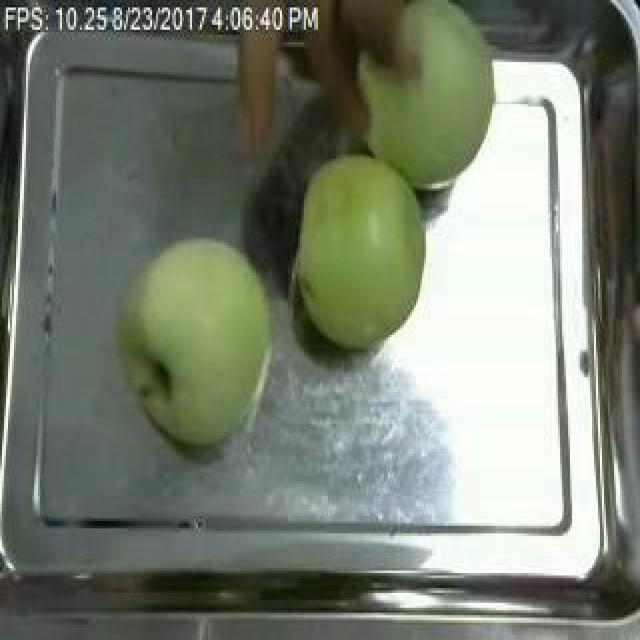Rotten Apple: (131, 222, 267, 455), (293, 159, 463, 340)
